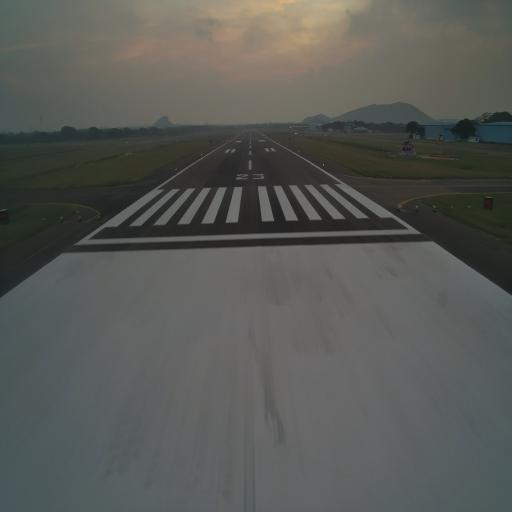on: (77, 214, 83, 222), (450, 203, 455, 212), (41, 215, 46, 223), (432, 203, 437, 211), (59, 214, 64, 221), (467, 204, 472, 209), (97, 213, 101, 219), (414, 204, 418, 210)
